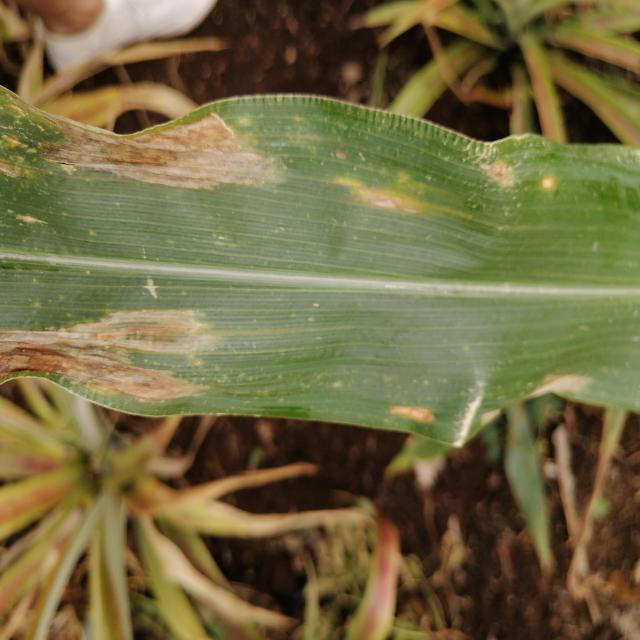Corn_Leaf_Blight: (0, 81, 640, 437)
